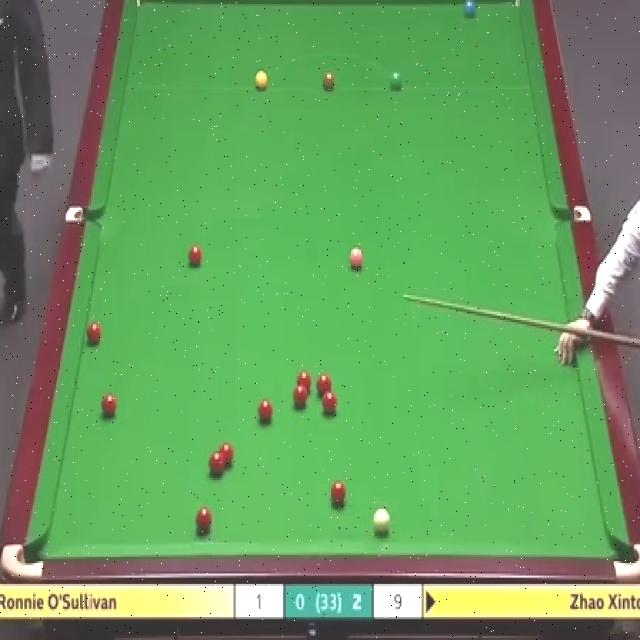blue-ball: (460, 0, 477, 21)
brown-ball: (322, 72, 336, 92)
green-ball: (387, 71, 402, 93)
pink-ball: (347, 243, 366, 272)
red-ball: (195, 505, 214, 534), (207, 452, 226, 478), (100, 391, 117, 420), (85, 320, 102, 347), (329, 481, 346, 507), (258, 401, 275, 426), (187, 244, 204, 268), (292, 385, 308, 410), (295, 370, 313, 392), (219, 442, 236, 465), (322, 390, 338, 414), (316, 374, 332, 395)
white-ball: (373, 508, 390, 535)
yellow-ball: (254, 70, 268, 92)
